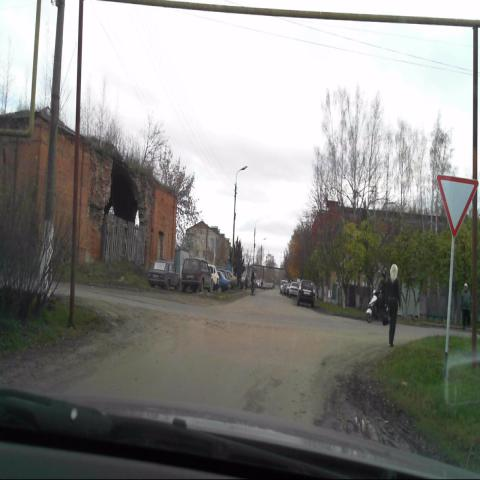2_4: (435, 173, 479, 238)
